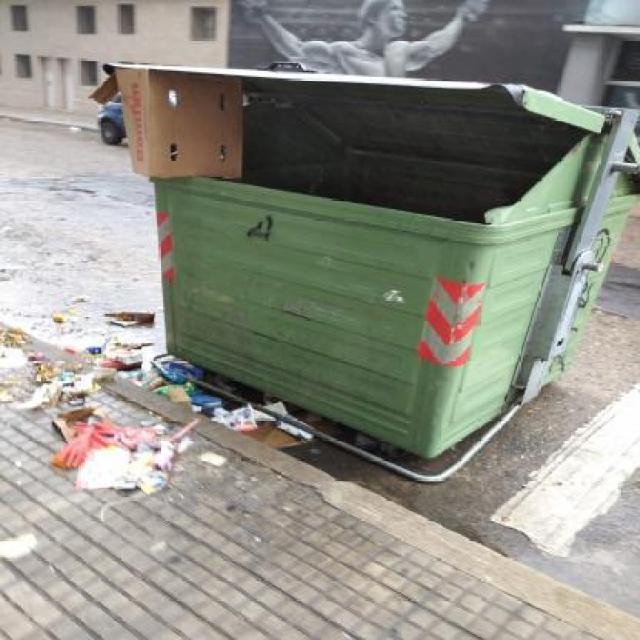garbage: (5, 303, 264, 500)
